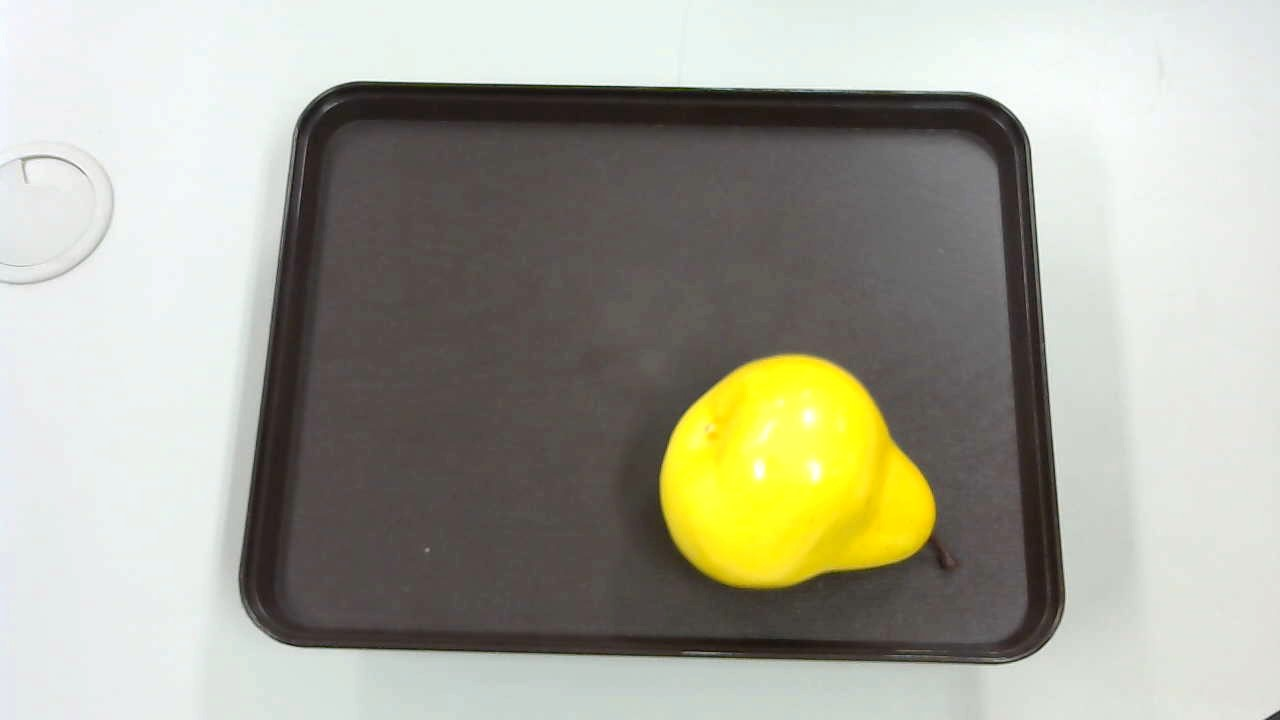yellow pear: (644, 337, 995, 612)
